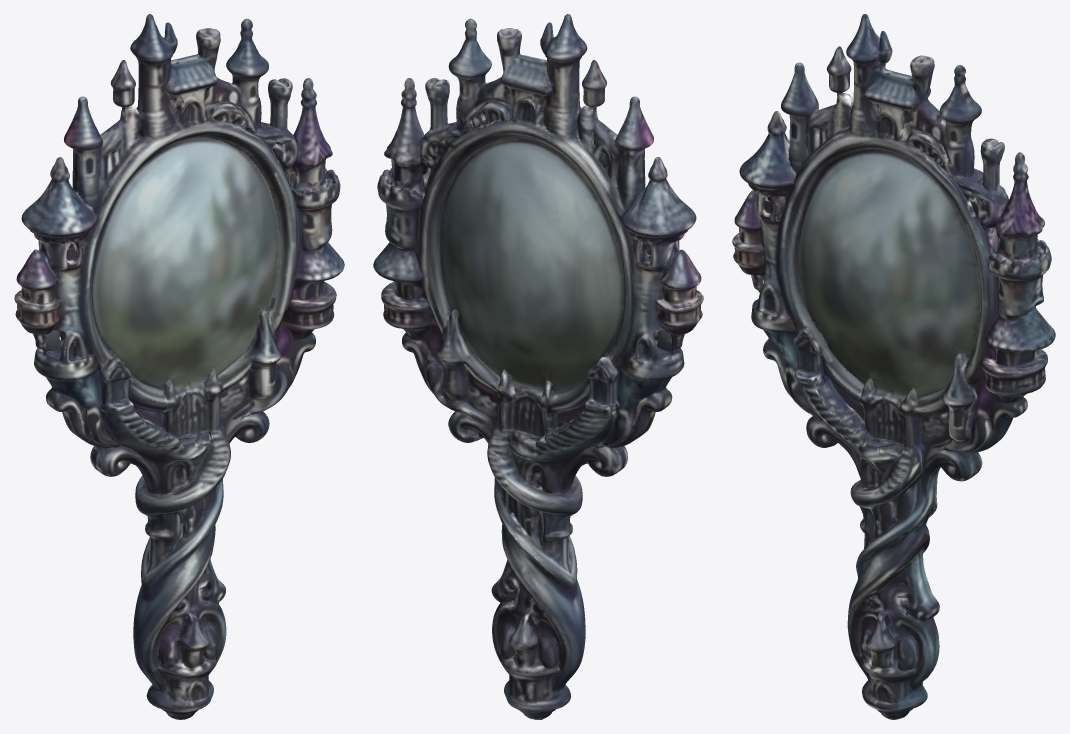
The model's file is hand-mirror.glb.
3 views of the same model, side by side, from view 1: azimuth 30°, elevation 25°; view 2: azimuth 150°, elevation 25°; view 3: azimuth 330°, elevation 25° (orthographic). The views are drawn at different scales.
Parts seen in each view (by area): view 1: geometry_0; view 2: geometry_0; view 3: geometry_0.
Boxes of the visible parts, left/top/right/bottom form: geometry_0: left=14, top=14, right=344, bottom=719; geometry_0: left=373, top=14, right=703, bottom=719; geometry_0: left=732, top=14, right=1055, bottom=719.
Size of the model in its own units: 0.32 by 0.6778 by 0.0775.
Materials: 1 (1 with a texture image).
